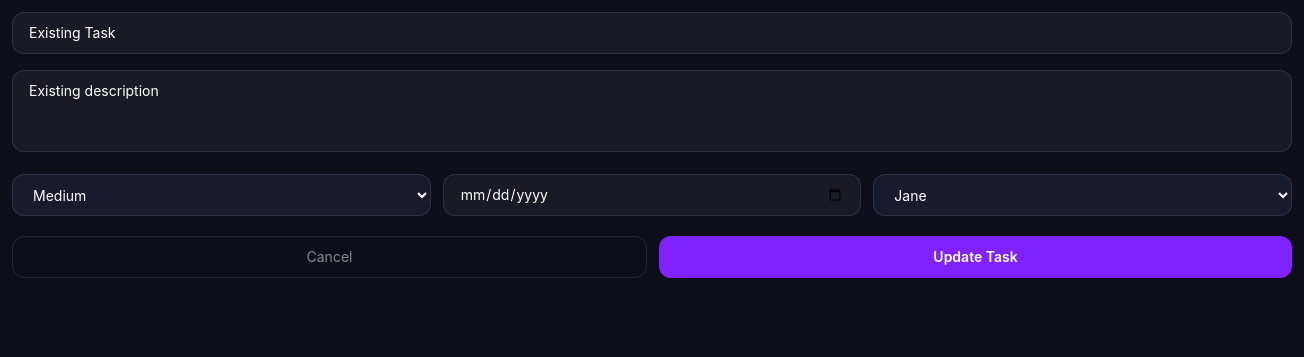
Test: TaskForm › shows update error when updating a task fails
Click the button "Update Task".
click(976, 257)  # box left=659, top=236, right=1292, bottom=278
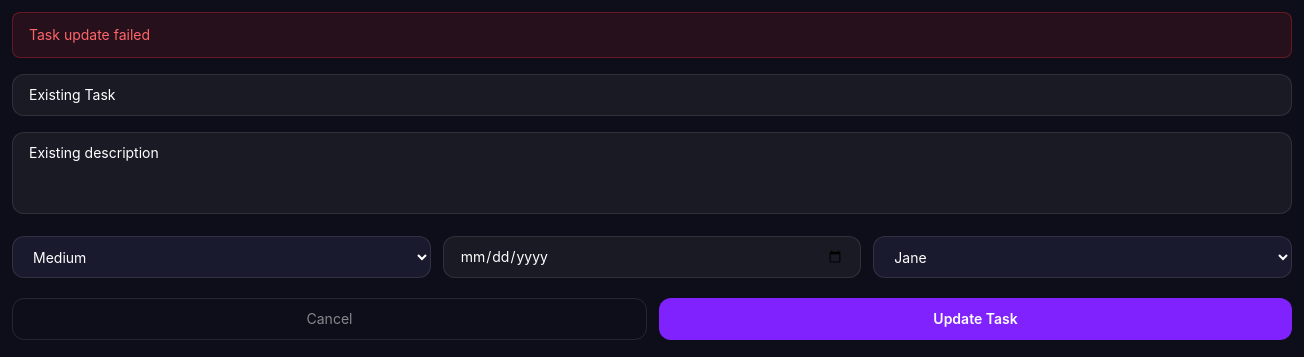
Expected: the text "Task update failed" is shown, left=12, top=12, right=1292, bottom=58
